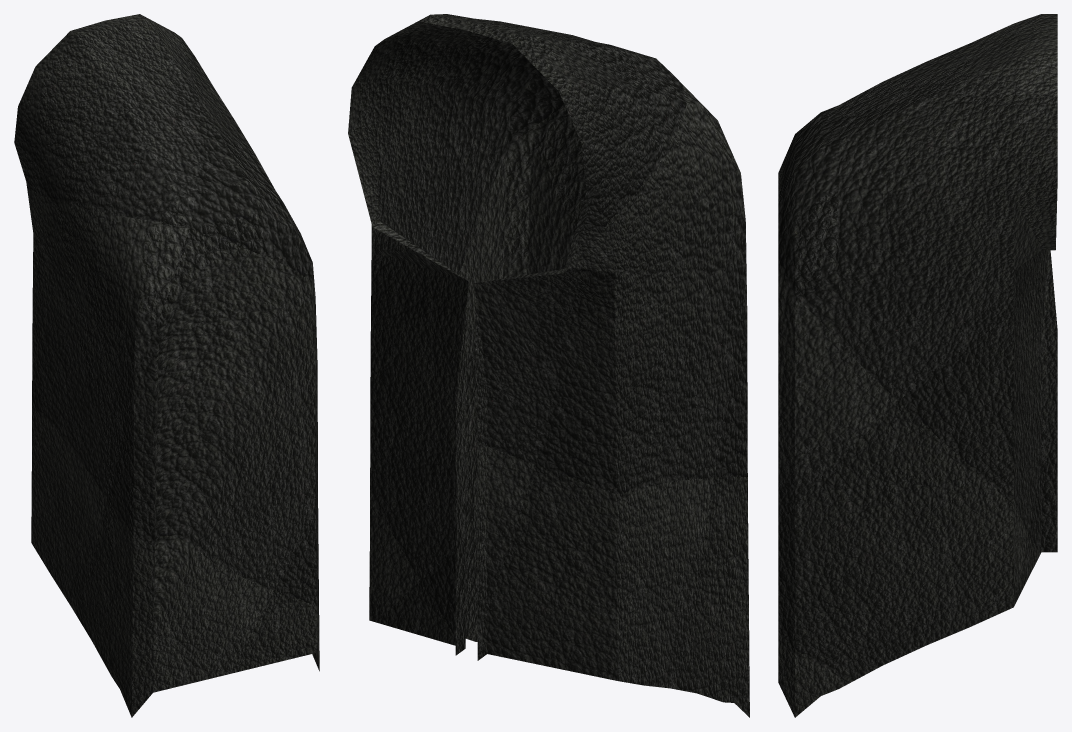
File: Cloak.fbx
The picture shows the model from 3 angles, left to right: view 1: azimuth 30°, elevation 25°; view 2: azimuth 150°, elevation 25°; view 3: azimuth 270°, elevation 25°; orthographic projection. The views are drawn at different scales.
Visible parts, largest first — view 1: Grid; view 2: Grid; view 3: Grid.
Part boxes in pixels (<box>): Grid: <box>14,14,319,717</box>; Grid: <box>348,14,749,717</box>; Grid: <box>778,14,1057,717</box>.
Size of the model in its own units: 208 by 621 by 246.
